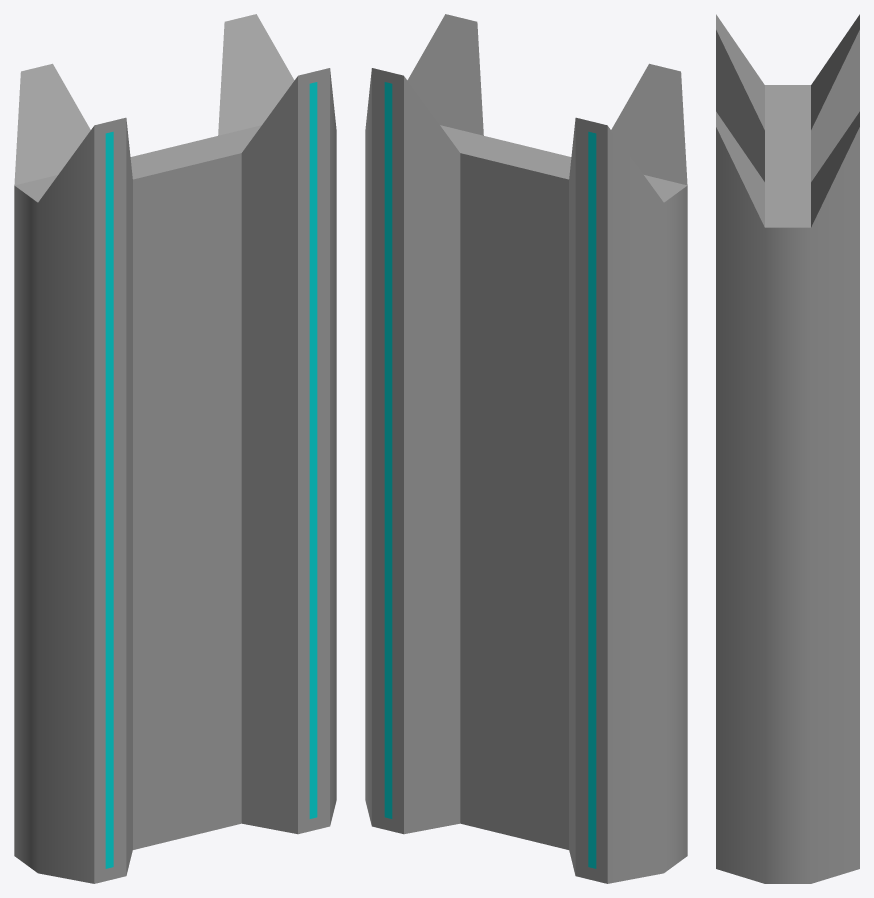
The model's file is building1.0001.fbx.
The picture shows the model from 3 angles, left to right: view 1: azimuth 30°, elevation 25°; view 2: azimuth 150°, elevation 25°; view 3: azimuth 270°, elevation 25°; orthographic projection. The views are drawn at different scales.
Parts seen in each view (by area): view 1: polySurface8; view 2: polySurface8; view 3: polySurface8.
Boxes of the visible parts, bbox=[...] form: polySurface8: bbox=[14, 14, 336, 883]; polySurface8: bbox=[365, 14, 687, 883]; polySurface8: bbox=[716, 14, 859, 883].
Size of the model in its own units: 0.4695 by 1.14 by 0.2003.
